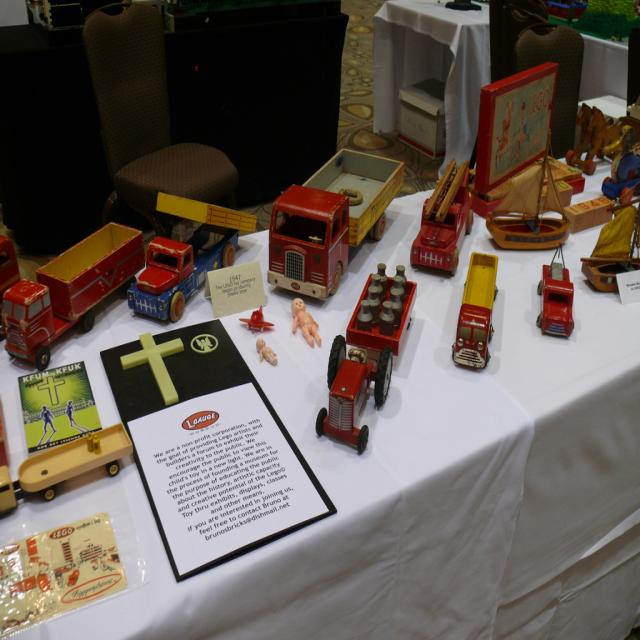Toy: (2, 222, 145, 368), (267, 149, 405, 300), (316, 248, 422, 441), (127, 193, 256, 321), (0, 421, 134, 518), (486, 130, 570, 250), (412, 160, 472, 275), (580, 184, 640, 295), (452, 251, 498, 370), (566, 103, 633, 176), (537, 244, 573, 338), (291, 299, 320, 347), (240, 306, 272, 332), (259, 340, 277, 366), (68, 568, 80, 586)
